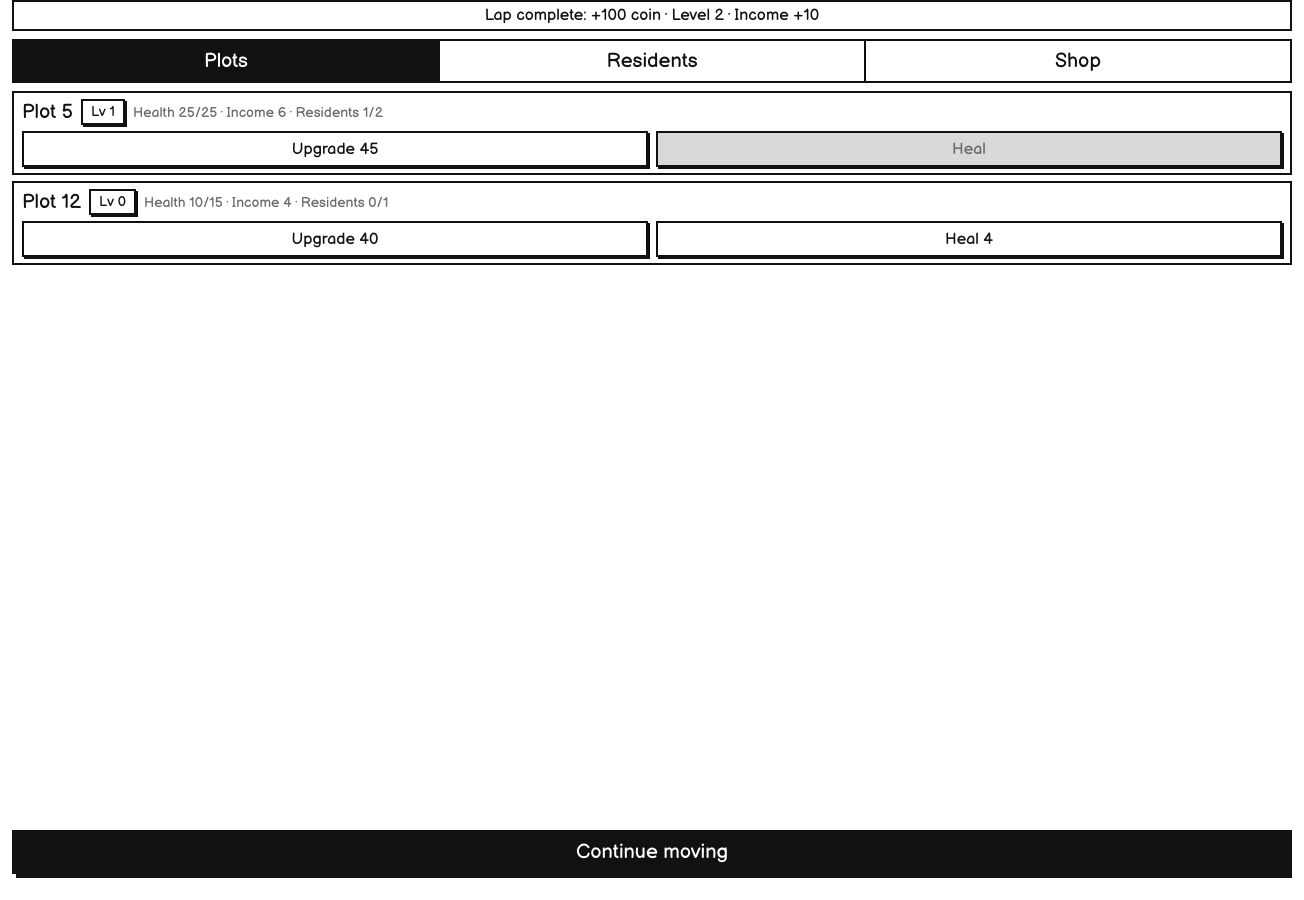
Scenario: StationView › lists residents with heal cost and recruit buttons that show their costs
Click the tab "Residents" at (651,61), box [438, 41, 864, 81]
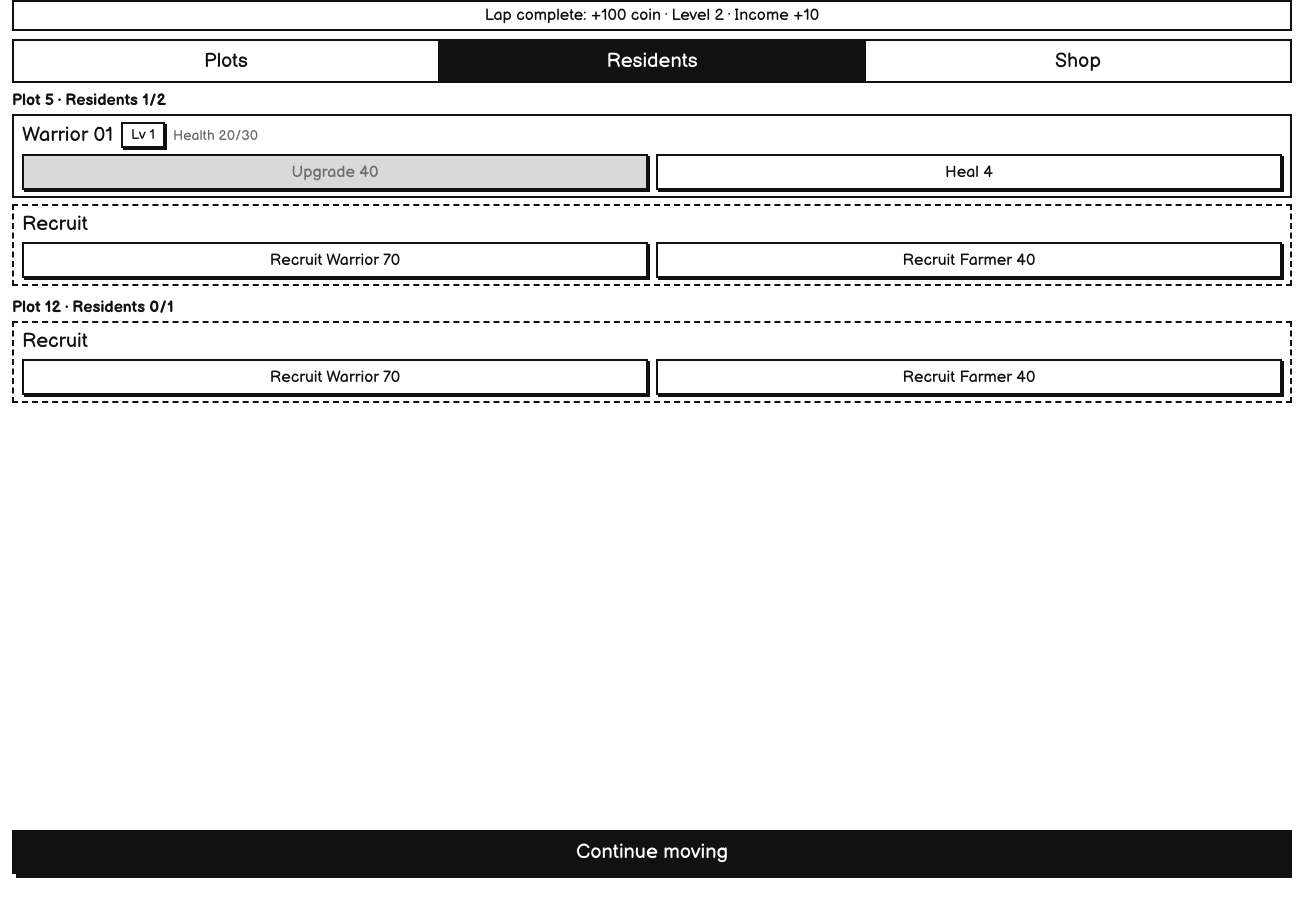
Now the text "Warrior 01" is shown, box [22, 123, 113, 147]
Now the button "Recruit Warrior 70" below "Warrior 01" is shown, box [22, 242, 648, 278]
Now the 1st button "Recruit Farmer 40" is shown, box [656, 242, 1282, 278]
